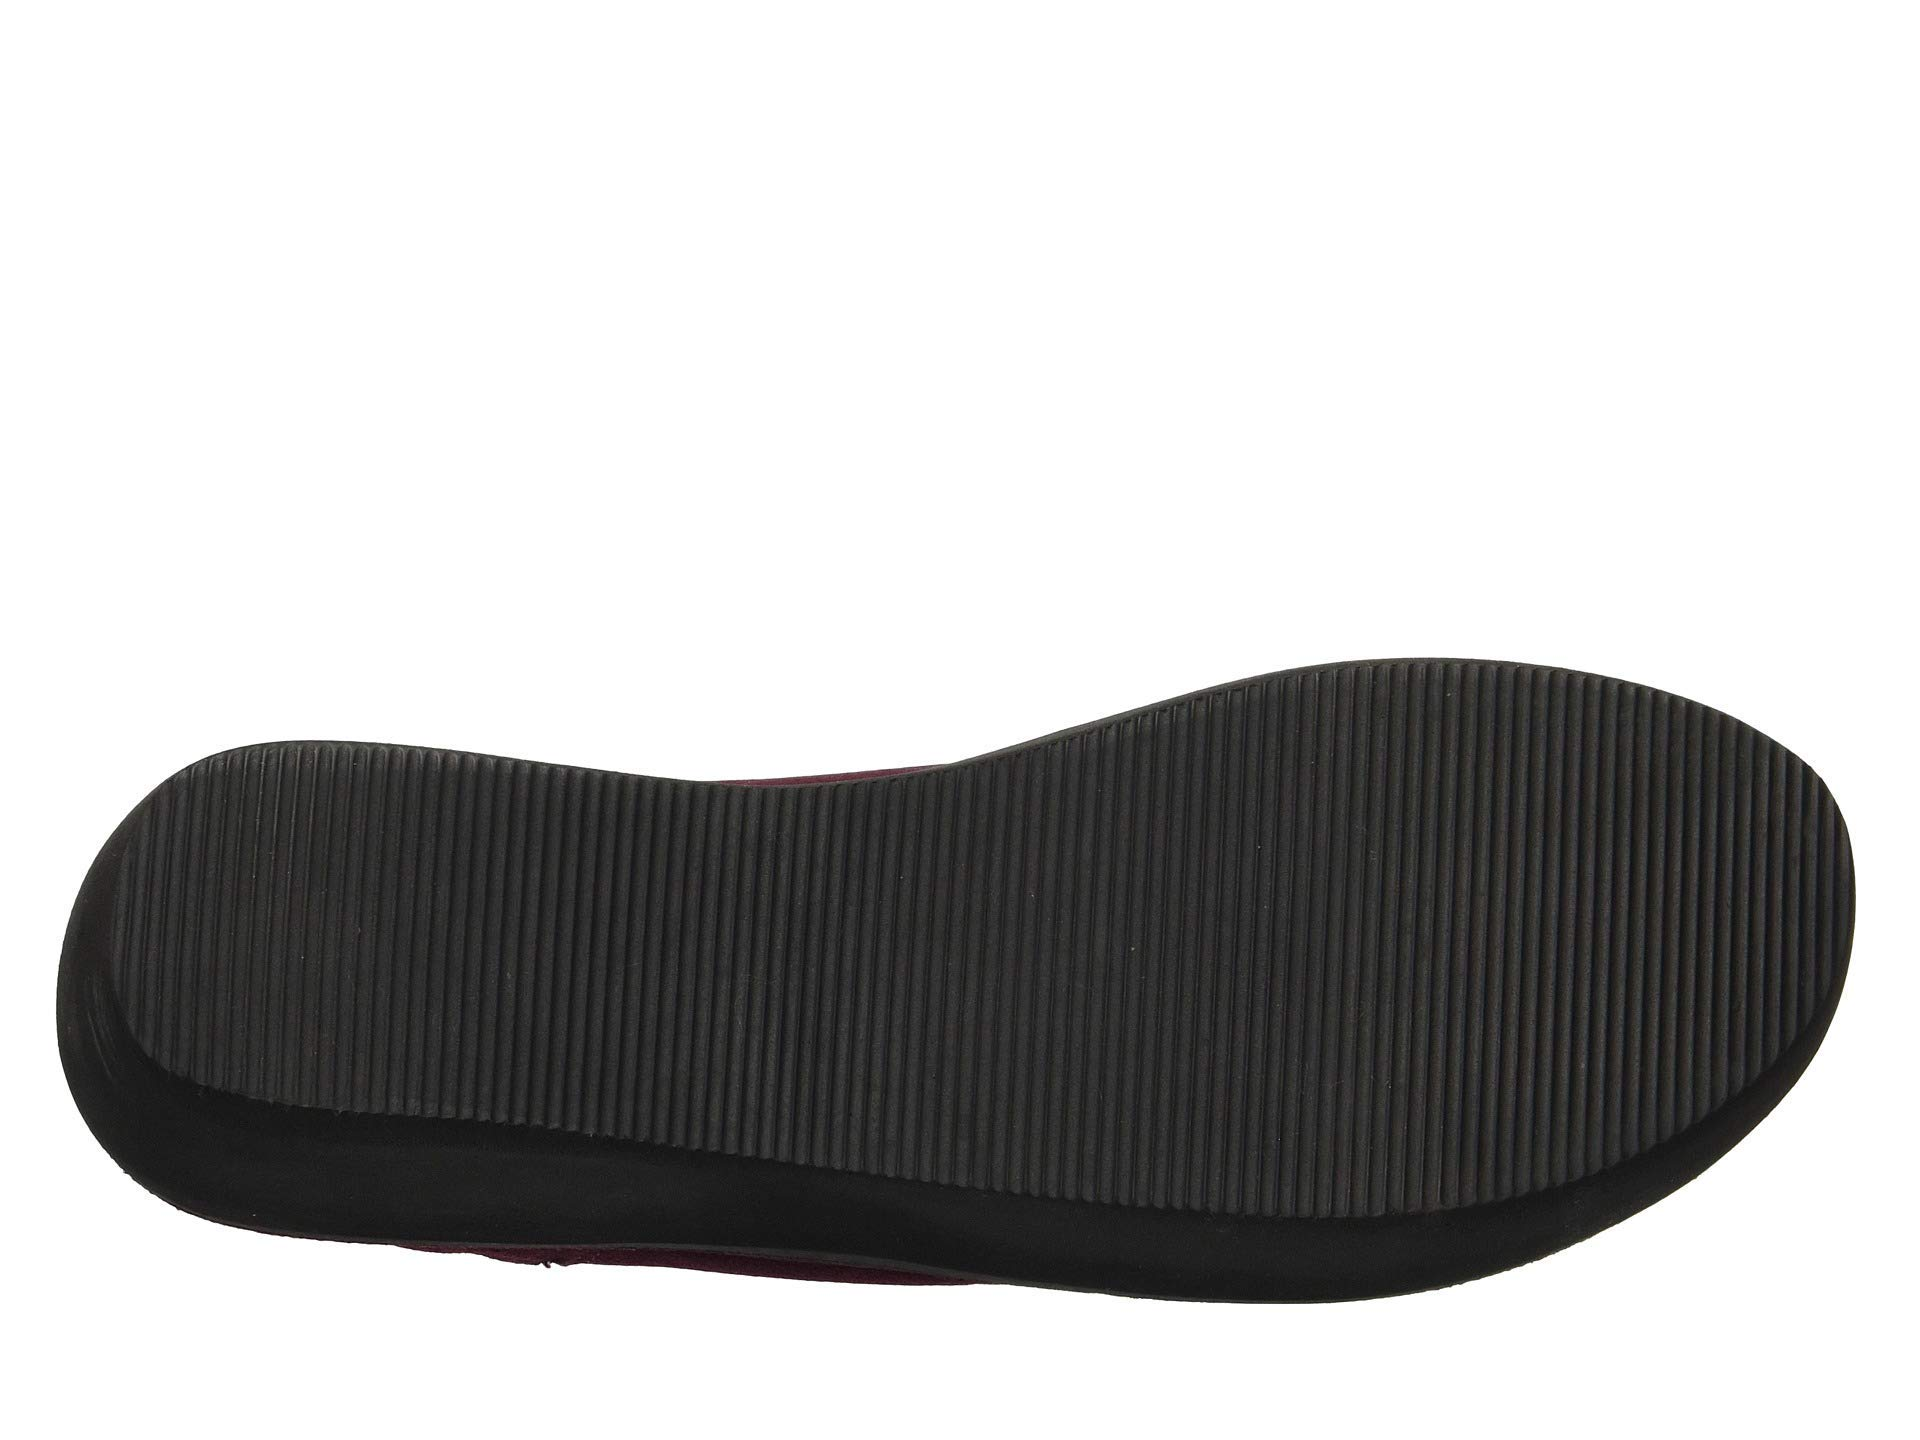line: (110, 663, 1857, 1216)
